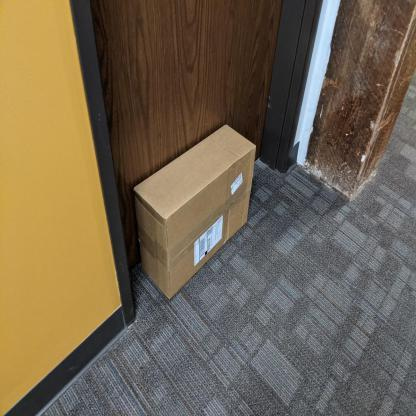package: (131, 119, 258, 303)
